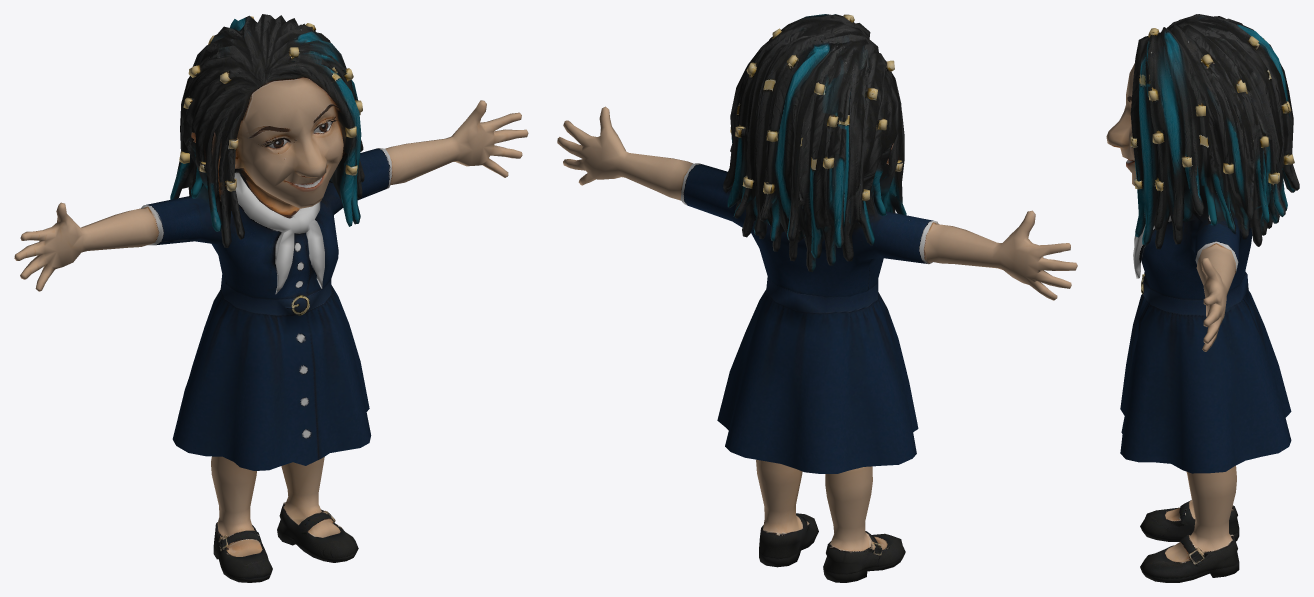
Rendered from player_rochelle.glb.
3 views of the same model, side by side, from view 1: azimuth 30°, elevation 25°; view 2: azimuth 150°, elevation 25°; view 3: azimuth 270°, elevation 25° (orthographic).
Visible parts, largest first — view 1: tripo_node_aed5508c-7b5e-419f-989a-e585d243f790; view 2: tripo_node_aed5508c-7b5e-419f-989a-e585d243f790; view 3: tripo_node_aed5508c-7b5e-419f-989a-e585d243f790.
Part boxes in pixels (x1,y1,x2,y2): tripo_node_aed5508c-7b5e-419f-989a-e585d243f790: (14,14,528,582); tripo_node_aed5508c-7b5e-419f-989a-e585d243f790: (557,14,1077,582); tripo_node_aed5508c-7b5e-419f-989a-e585d243f790: (1106,14,1299,582).
Size of the model in its own units: 0.998 by 0.9863 by 0.3262.
1 material, 1 textured.
